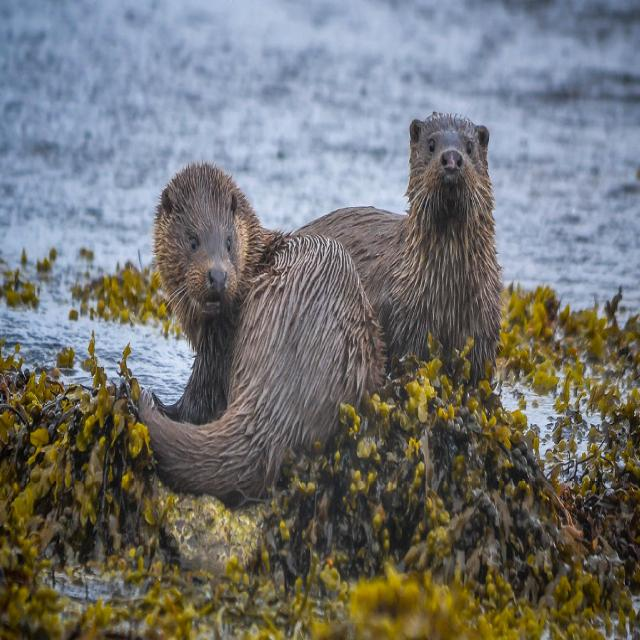otter: (142, 162, 377, 498), (302, 113, 495, 381)
